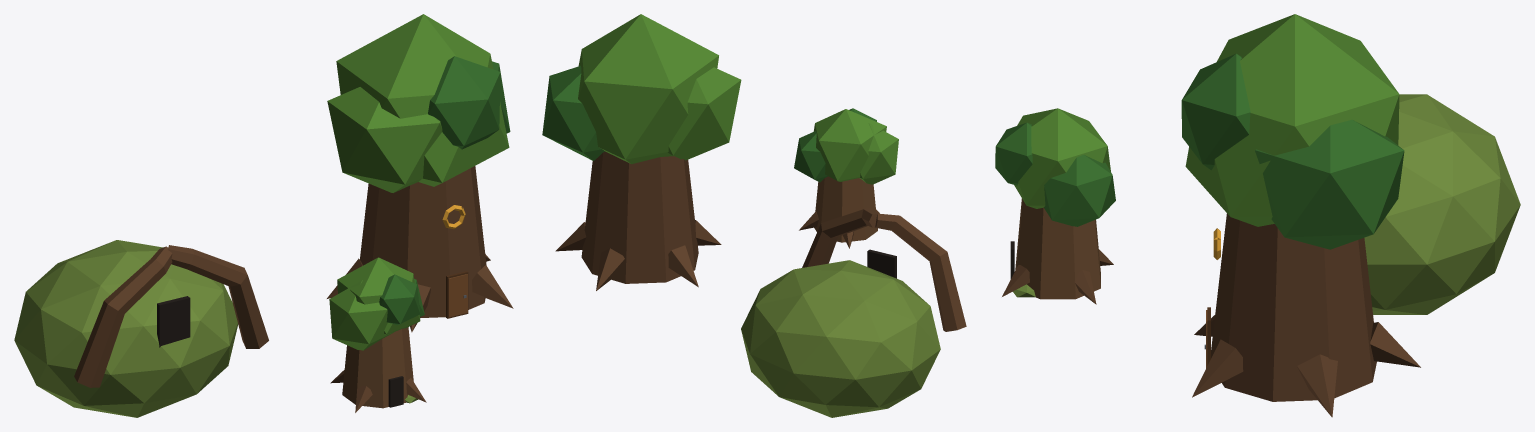
File: treekin_compound.glb
The picture shows the model from 3 angles, left to right: view 1: azimuth 30°, elevation 25°; view 2: azimuth 150°, elevation 25°; view 3: azimuth 270°, elevation 25°; orthographic projection. The views are drawn at different scales.
Visible parts, largest first — view 1: treekin_compound; view 2: treekin_compound; view 3: treekin_compound.
Part boxes in pixels (x1,y1,x2,y2): treekin_compound: (14, 14, 513, 417); treekin_compound: (542, 14, 966, 417); treekin_compound: (995, 14, 1520, 417).
Bounding box in the file's own units: 5.82 × 4.41 × 4.66.
